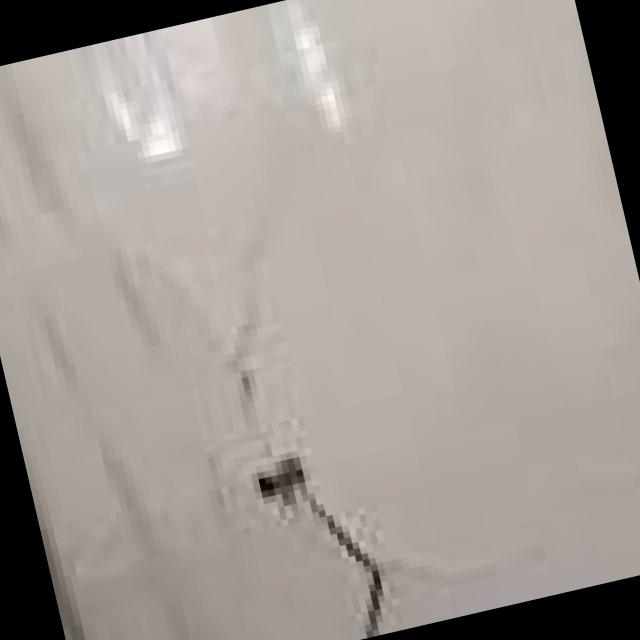crack: (264, 428, 409, 640), (216, 228, 300, 388)
